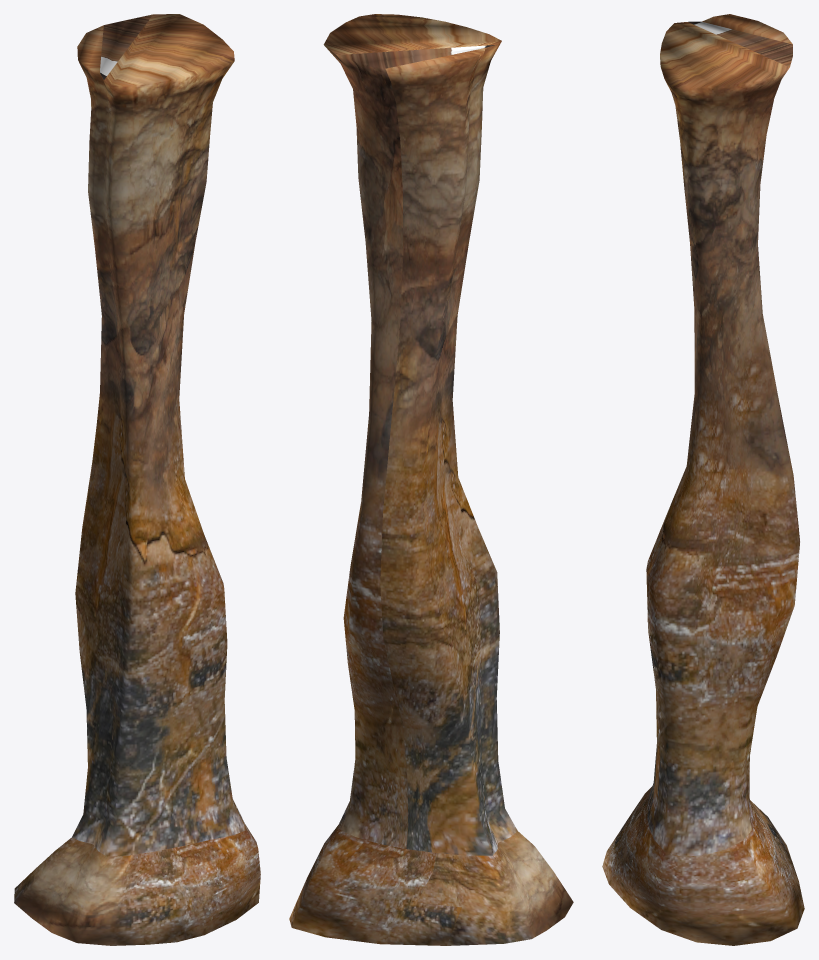
Rendered from rockformation2.obj.
The picture shows the model from 3 angles, left to right: view 1: azimuth 30°, elevation 25°; view 2: azimuth 150°, elevation 25°; view 3: azimuth 270°, elevation 25°; orthographic projection. The views are drawn at different scales.
Visible parts, largest first — view 1: rockformation2; view 2: rockformation2; view 3: rockformation2.
Boxes of the visible parts, x1,y1,x2,y2 form: rockformation2: (14, 14, 260, 945); rockformation2: (289, 14, 573, 945); rockformation2: (602, 14, 804, 945).
Bounding box in the file's own units: 102 × 378 × 81.34.
1 material, 1 textured.
